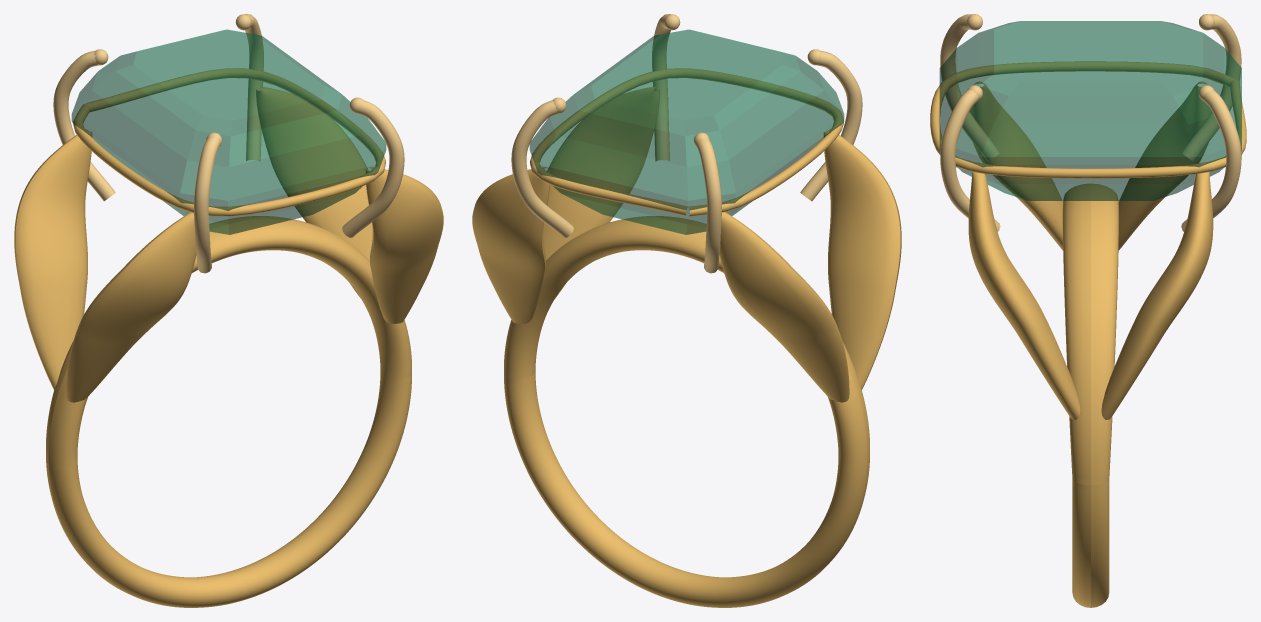
Rendered from folded-petal.glb.
3 renders of one model, left to right at view 1: azimuth 30°, elevation 25°; view 2: azimuth 150°, elevation 25°; view 3: azimuth 270°, elevation 25°, orthographic.
Visible parts, largest first — view 1: Emerald_Step_Cut, Continuous_Comfort_Shank, Petal_Shoulder_-1_-1, Petal_Shoulder_-1_1, Petal_Shoulder_1_-1, Petal_Shoulder_1_1, Open_Gallery_Rail, Claw_1_1, Claw_-1_-1, Claw_-1_1, Claw_1_-1; view 2: Emerald_Step_Cut, Continuous_Comfort_Shank, Petal_Shoulder_-1_1, Petal_Shoulder_-1_-1, Petal_Shoulder_1_1, Petal_Shoulder_1_-1, Open_Gallery_Rail, Claw_1_-1, Claw_-1_1, Claw_-1_-1, Claw_1_1; view 3: Emerald_Step_Cut, Continuous_Comfort_Shank, Petal_Shoulder_1_1, Petal_Shoulder_1_-1, Open_Gallery_Rail, Petal_Shoulder_-1_1, Petal_Shoulder_-1_-1, Claw_1_1, Claw_1_-1, Claw_-1_1, Claw_-1_-1.
Boxes of the visible parts, left/top/right/bottom form: Emerald_Step_Cut: left=71, top=29, right=386, bottom=234; Continuous_Comfort_Shank: left=46, top=216, right=411, bottom=607; Petal_Shoulder_-1_-1: left=14, top=129, right=91, bottom=389; Petal_Shoulder_-1_1: left=66, top=212, right=196, bottom=402; Petal_Shoulder_1_-1: left=256, top=87, right=372, bottom=298; Petal_Shoulder_1_1: left=366, top=167, right=443, bottom=323; Open_Gallery_Rail: left=73, top=68, right=385, bottom=216; Claw_1_1: left=342, top=100, right=404, bottom=237; Claw_-1_-1: left=53, top=50, right=115, bottom=201; Claw_-1_1: left=194, top=137, right=220, bottom=273; Claw_1_-1: left=245, top=14, right=263, bottom=161; Emerald_Step_Cut: left=529, top=29, right=844, bottom=234; Continuous_Comfort_Shank: left=504, top=216, right=869, bottom=607; Petal_Shoulder_-1_1: left=824, top=129, right=901, bottom=389; Petal_Shoulder_-1_-1: left=719, top=212, right=849, bottom=402; Petal_Shoulder_1_1: left=543, top=87, right=659, bottom=298; Petal_Shoulder_1_-1: left=472, top=167, right=549, bottom=323; Open_Gallery_Rail: left=530, top=68, right=843, bottom=216; Claw_1_-1: left=511, top=100, right=573, bottom=237; Claw_-1_1: left=800, top=50, right=862, bottom=201; Claw_-1_-1: left=695, top=137, right=721, bottom=273; Claw_1_1: left=652, top=14, right=670, bottom=161; Emerald_Step_Cut: left=939, top=21, right=1241, bottom=200; Continuous_Comfort_Shank: left=1062, top=184, right=1118, bottom=607; Petal_Shoulder_1_1: left=968, top=172, right=1080, bottom=419; Petal_Shoulder_1_-1: left=1101, top=172, right=1213, bottom=419; Open_Gallery_Rail: left=930, top=61, right=1246, bottom=178; Petal_Shoulder_-1_1: left=970, top=81, right=1063, bottom=250; Petal_Shoulder_-1_-1: left=1118, top=81, right=1211, bottom=250; Claw_1_1: left=940, top=89, right=1000, bottom=231; Claw_1_-1: left=1181, top=89, right=1241, bottom=231; Claw_-1_1: left=940, top=14, right=999, bottom=161; Claw_-1_-1: left=1182, top=14, right=1241, bottom=161.
Bounding box in the file's own units: 0.0241 × 0.0337 × 0.018.
